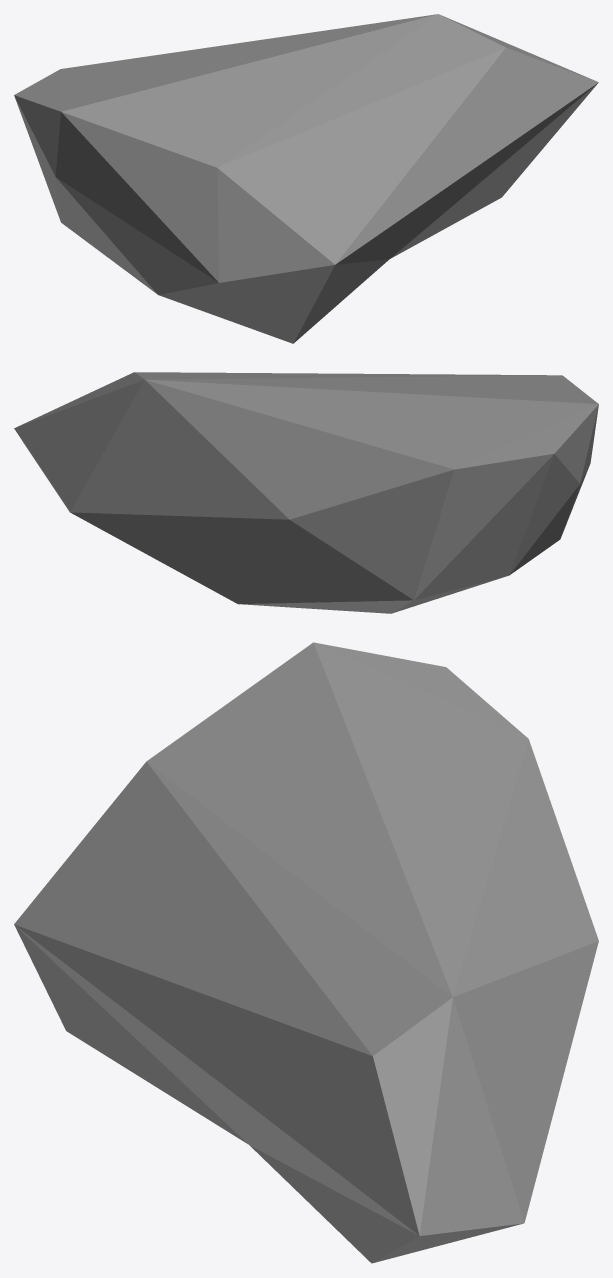
File: SPW_Natures_Stone_10.glb
The picture shows the model from 3 angles, top to bottom: view 1: azimuth 30°, elevation 25°; view 2: azimuth 150°, elevation 25°; view 3: azimuth 270°, elevation 25°; orthographic projection. The views are drawn at different scales.
Parts seen in each view (by area): view 1: SPW_Natures_Stone_10; view 2: SPW_Natures_Stone_10; view 3: SPW_Natures_Stone_10.
Boxes of the visible parts, x1,y1,x2,y2 form: SPW_Natures_Stone_10: (14,14,598,343); SPW_Natures_Stone_10: (14,372,598,613); SPW_Natures_Stone_10: (14,642,598,1263).
Bounding box in the file's own units: 4.18 × 1.61 × 2.6.
1 material, 1 textured.
